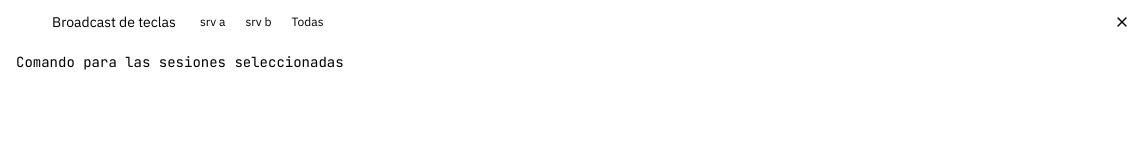
Test: MultiExecBar › M4: says why Enter does nothing when no session is selected
This screenshot has width=1144, height=160.
Step 1. Type "ls" into the field named "Comando para MultiExec" → (512, 62), box [8, 46, 1017, 78]
Then press Enter
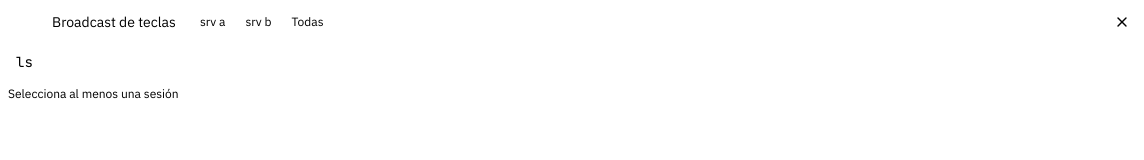
Expected: the message reads "Selecciona al menos una sesión", [8, 86, 179, 101]
